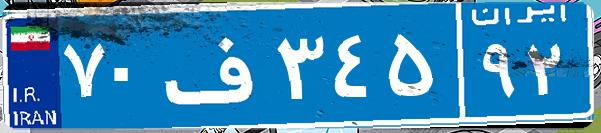0: (110, 28, 158, 105)
2: (525, 38, 570, 115)
3: (273, 28, 330, 110)
4: (330, 28, 385, 110)
5: (385, 28, 445, 110)
7: (57, 26, 110, 107)
9: (475, 38, 525, 113)
ف: (158, 15, 273, 115)
